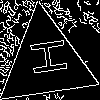H: (21, 36, 68, 79)
